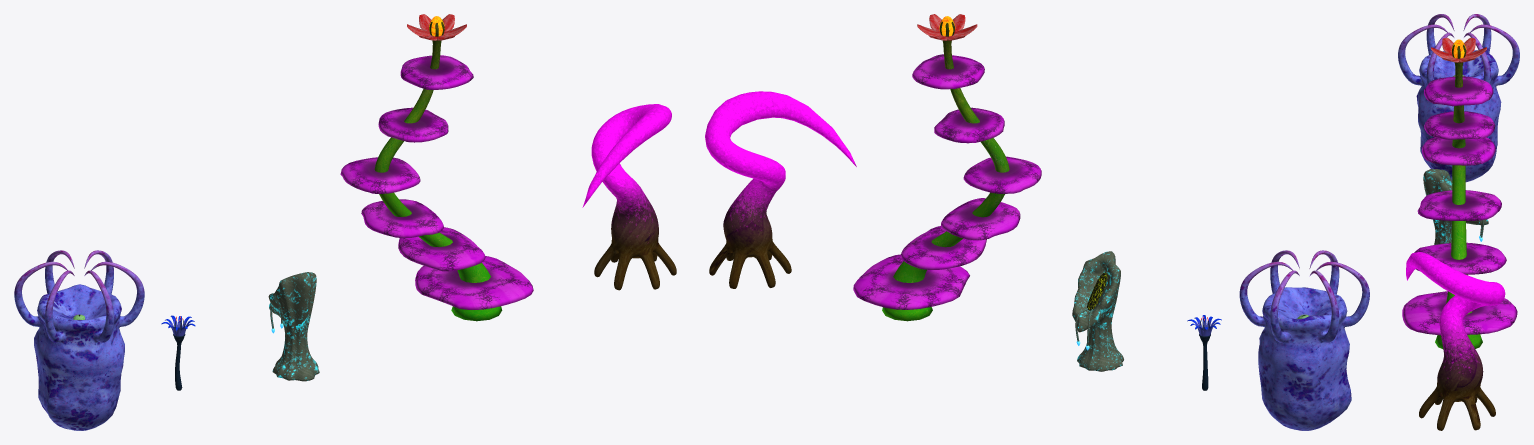
File: alien_plants.glb
3 views of the same model, side by side, from view 1: azimuth 30°, elevation 25°; view 2: azimuth 150°, elevation 25°; view 3: azimuth 270°, elevation 25° (orthographic). The views are drawn at different scales.
Parts seen in each view (by area): view 1: Alien2, Alien5, Alien1, Alien3, Alien4; view 2: Alien2, Alien5, Alien1, Alien3, Alien4; view 3: Alien2, Alien1, Alien5, Alien3.
Boxes of the visible parts, x1,y1,x2,y2 form: Alien2: [340, 14, 533, 321]; Alien5: [14, 250, 144, 430]; Alien1: [582, 104, 676, 290]; Alien3: [268, 272, 319, 381]; Alien4: [161, 315, 195, 390]; Alien2: [853, 14, 1041, 321]; Alien5: [1239, 250, 1369, 430]; Alien1: [705, 91, 856, 288]; Alien3: [1072, 251, 1123, 371]; Alien4: [1187, 315, 1221, 390]; Alien2: [1402, 37, 1517, 348]; Alien1: [1406, 252, 1505, 430]; Alien5: [1398, 14, 1519, 182]; Alien3: [1423, 169, 1488, 244].
Bounding box in the file's own units: 17.73 × 8.58 × 3.13.
5 materials, 5 textured.
